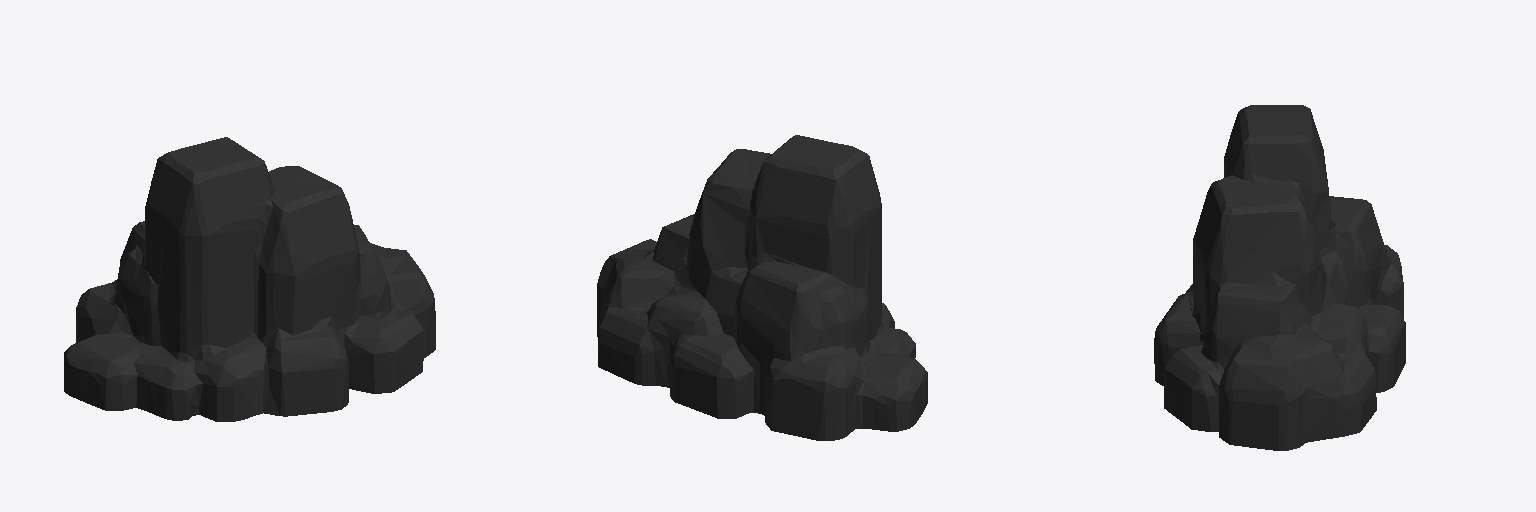
File: rock2.obj
3 renders of one model, left to right at view 1: azimuth 30°, elevation 25°; view 2: azimuth 150°, elevation 25°; view 3: azimuth 270°, elevation 25°, orthographic.
Parts seen in each view (by area): view 1: Rock_1_; view 2: Rock_1_; view 3: Rock_1_.
Part boxes in pixels (x1,y1,x2,y2): Rock_1_: (64, 137, 435, 421); Rock_1_: (597, 135, 927, 440); Rock_1_: (1154, 105, 1405, 450).
Size of the model in its own units: 2.51 by 1.62 by 1.63.